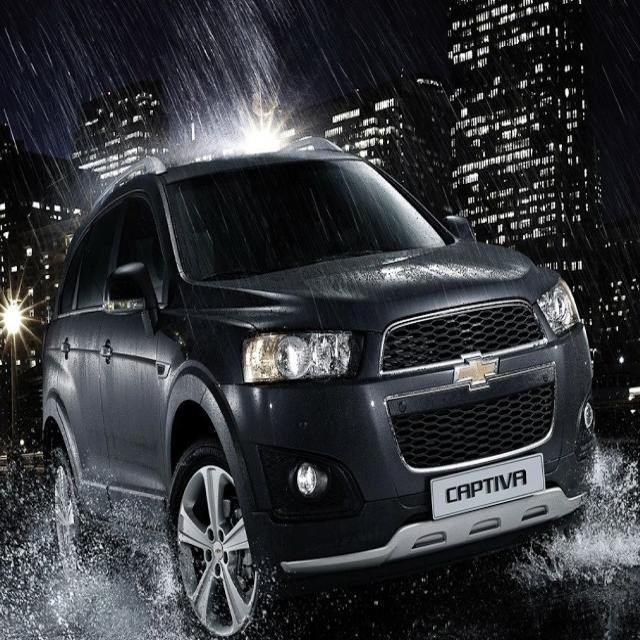front_bumper: (214, 371, 607, 575)
front_glass: (156, 143, 454, 285)
front_left_side_light: (526, 269, 593, 355)
front_right_side_door: (98, 166, 196, 534)
front_right_side_light: (238, 327, 366, 387)
front_right_side_mirror: (104, 255, 168, 334)
wheel: (157, 439, 291, 637)
